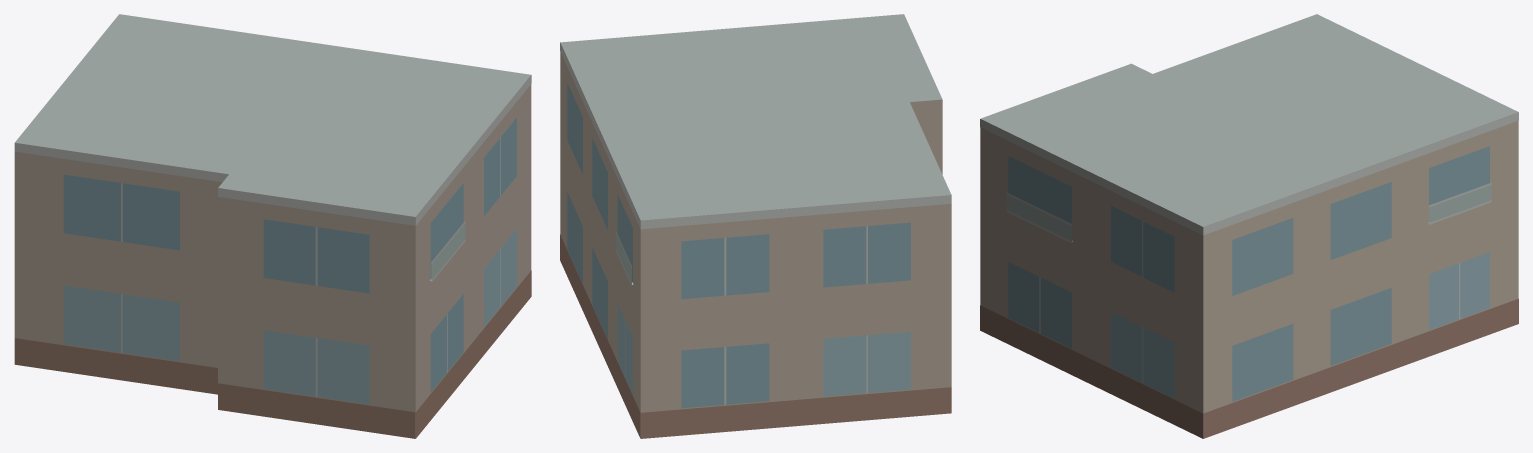
Rendered from survey-upis-33021317.glb.
3 views of the same model, side by side, from view 1: azimuth 30°, elevation 25°; view 2: azimuth 150°, elevation 25°; view 3: azimuth 270°, elevation 25° (orthographic). The views are drawn at different scales.
Visible parts, largest first — view 1: survey-upis-33021317.tmp; view 2: survey-upis-33021317.tmp; view 3: survey-upis-33021317.tmp.
Boxes of the visible parts, left/top/right/bottom form: survey-upis-33021317.tmp: left=14, top=14, right=531, bottom=438; survey-upis-33021317.tmp: left=560, top=14, right=951, bottom=438; survey-upis-33021317.tmp: left=980, top=14, right=1518, bottom=438.
Bounding box in the file's own units: 13.16 × 6.1 × 14.06.
